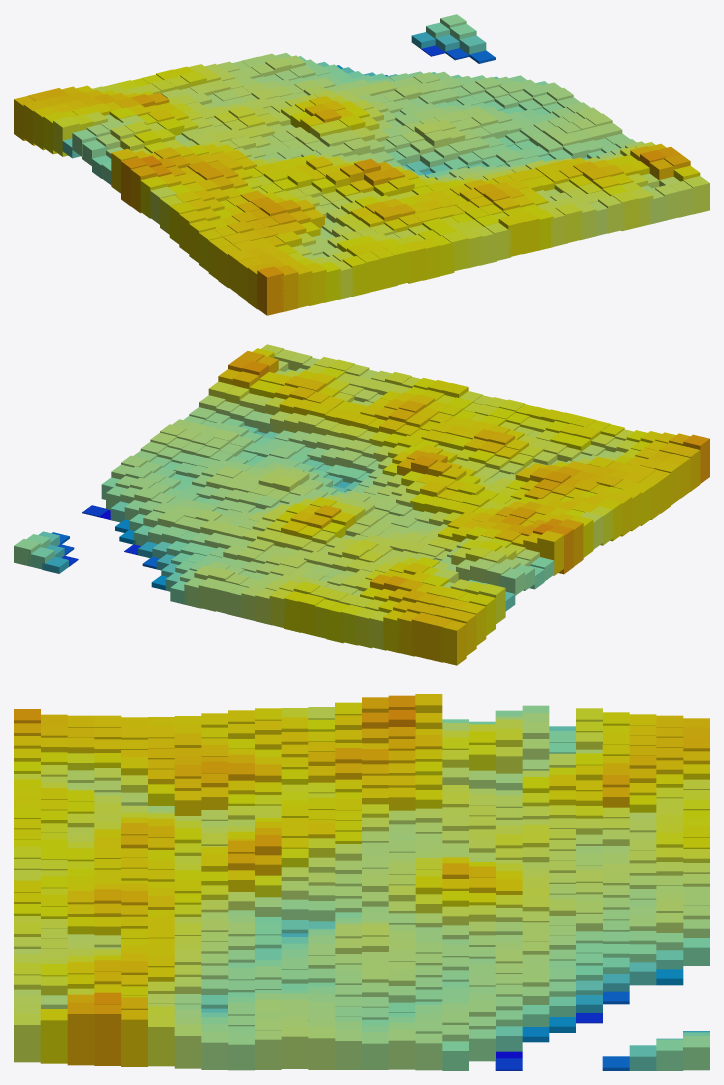
The model's file is population.glb.
The picture shows the model from 3 angles, top to bottom: view 1: azimuth 30°, elevation 25°; view 2: azimuth 150°, elevation 25°; view 3: azimuth 270°, elevation 25°; orthographic projection. The views are drawn at different scales.
Visible parts, largest first — view 1: population; view 2: population; view 3: population.
Boxes of the visible parts, bbox=[...] form: population: bbox=[14, 14, 709, 315]; population: bbox=[14, 344, 709, 665]; population: bbox=[14, 694, 709, 1070].
Bounding box in the file's own units: 2619 × 327 × 2591.
